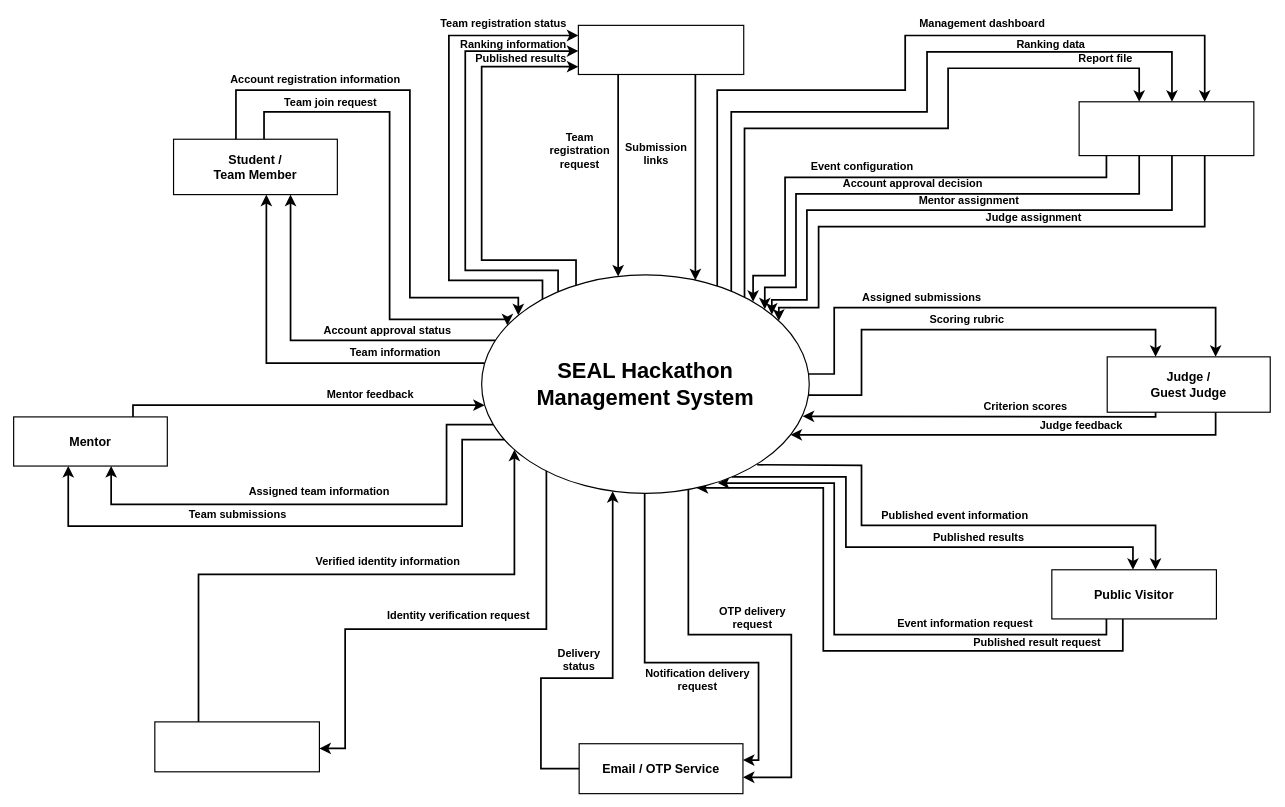
The diagram is 1285 pixels wide and 807 high, and some of its shapes have lost their labels. Here are the shapes that lost their labels. From the top down, the centre of each, then its label:
the point at 660,49: Team Leader
the point at 1166,128: Event Coordinator
the point at 237,746: Google Identity
